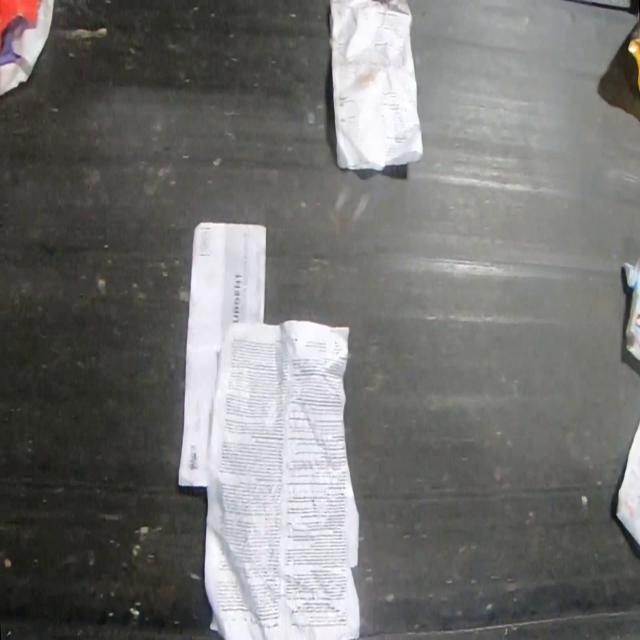cardboard: (622, 252, 640, 364)
soft_plastic: (627, 6, 639, 102)
